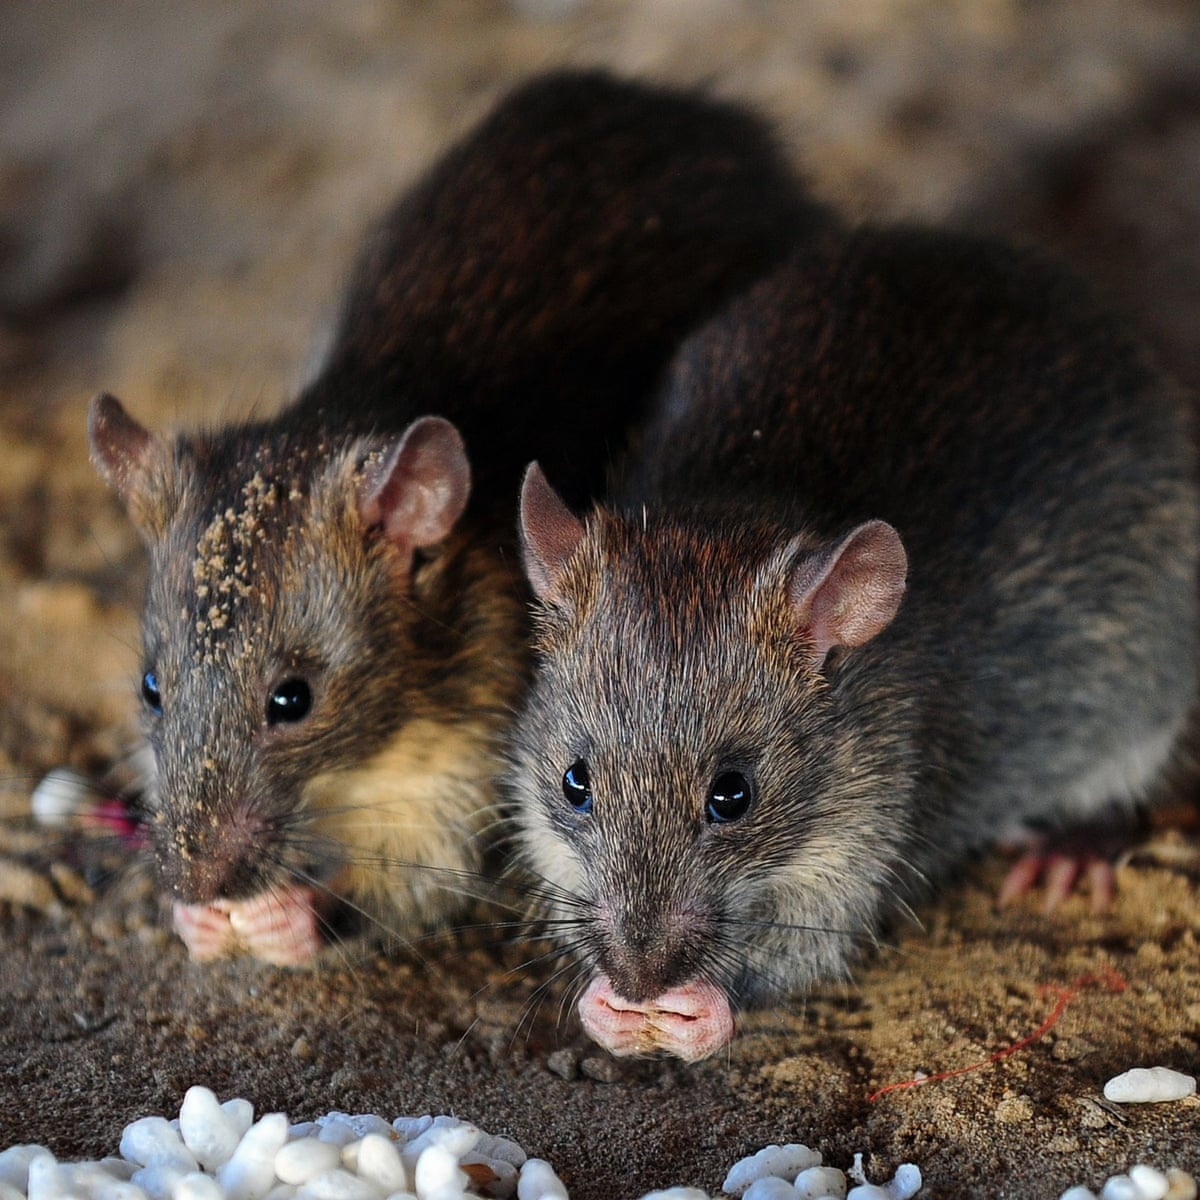rat: (484, 269, 1066, 1062), (34, 138, 569, 976)
